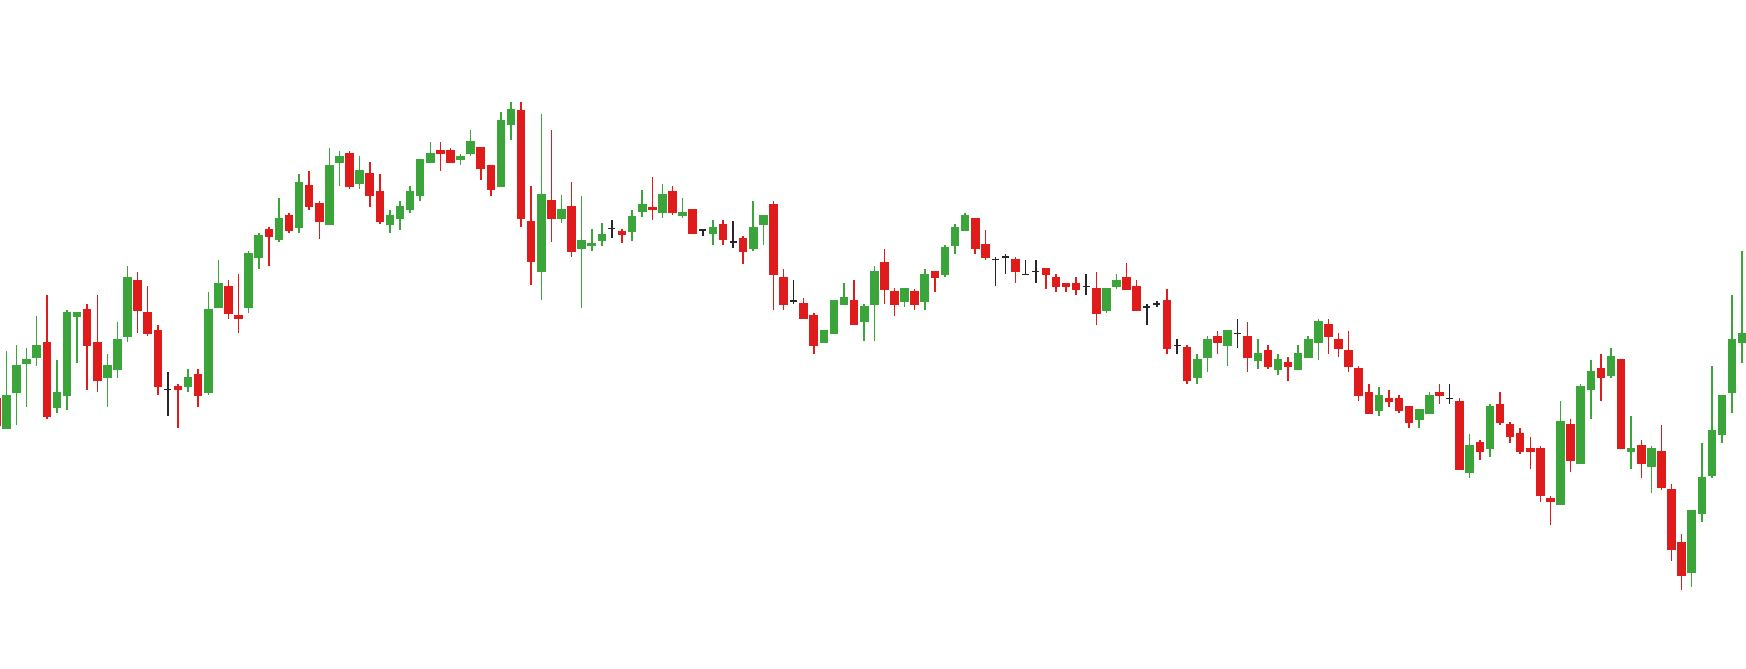buy: (100, 305, 187, 432)
sell: (465, 104, 529, 174)
